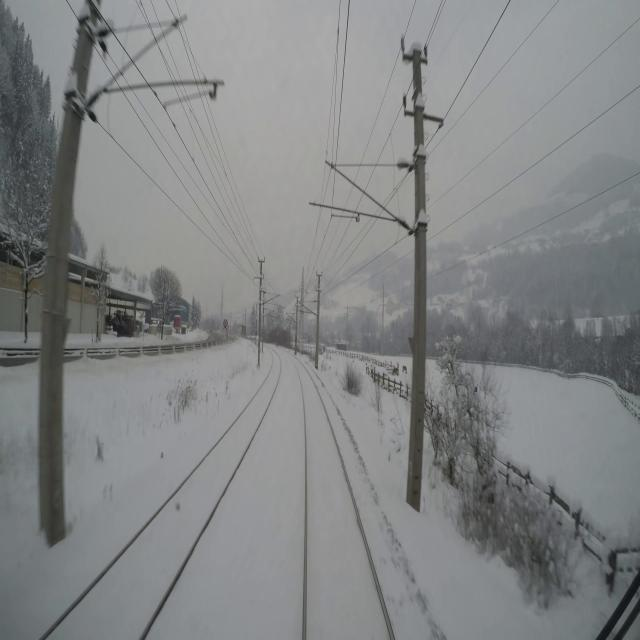rail-track: (45, 353, 279, 639), (295, 361, 389, 639)
